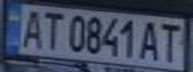0: (63, 11, 87, 53)
1: (118, 17, 139, 59)
4: (103, 15, 121, 57)
8: (81, 13, 106, 55)
A: (15, 7, 45, 50), (136, 18, 163, 62)
T: (154, 20, 184, 63), (39, 8, 66, 51)
